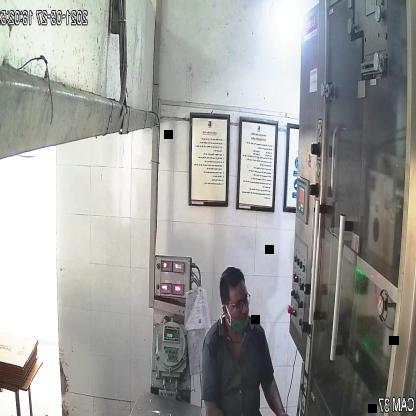goggles: (225, 294, 255, 316)
